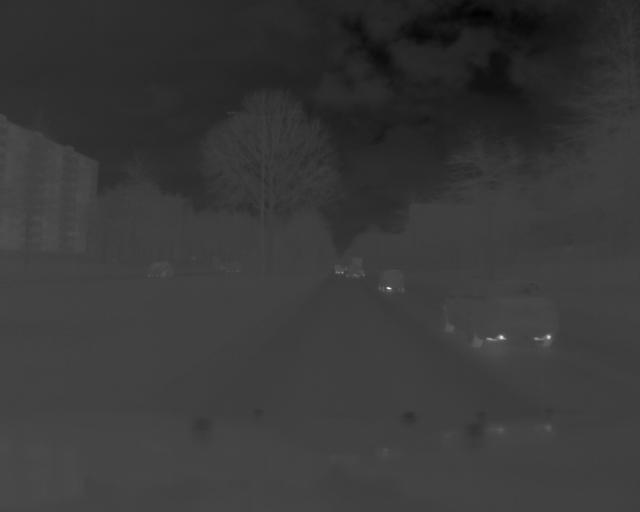car: (439, 279, 561, 350), (376, 266, 410, 297), (146, 259, 173, 281), (342, 255, 369, 277)
